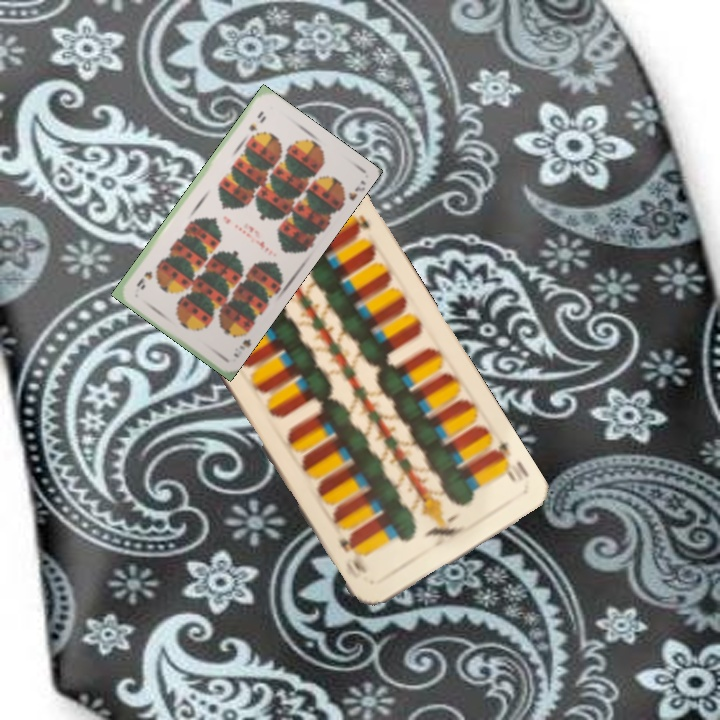E10: (487, 438, 532, 485)
S9: (230, 324, 253, 360), (244, 106, 267, 134)
